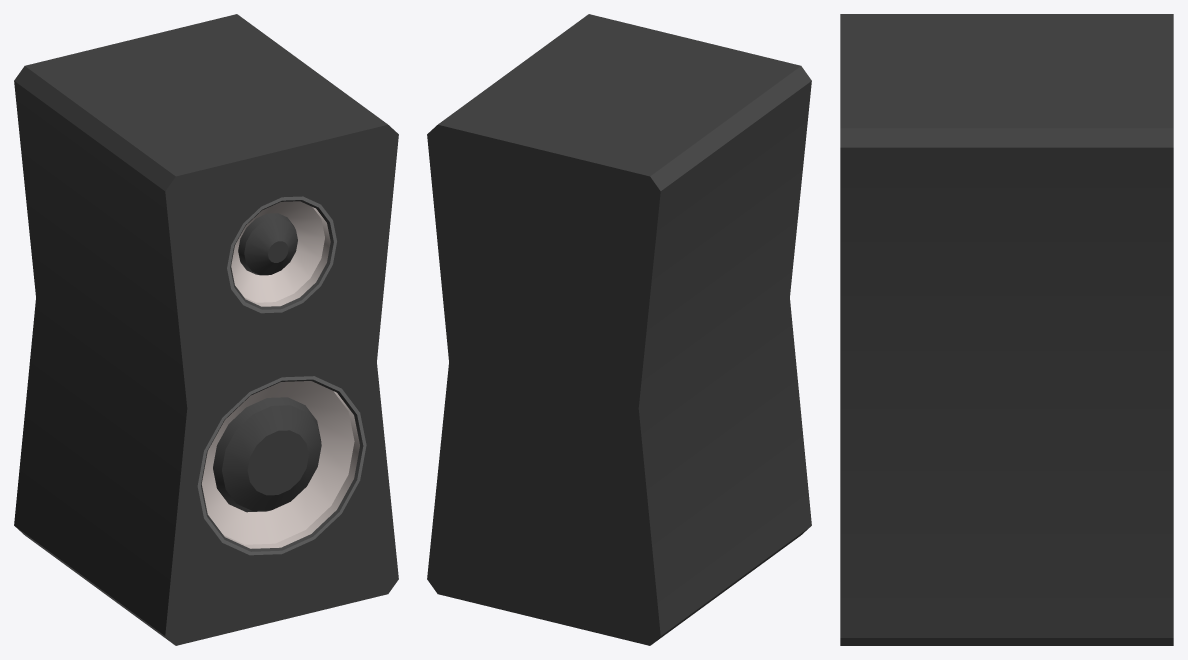
Rendered from Speakers.fbx.
3 views of the same model, side by side, from view 1: azimuth 30°, elevation 25°; view 2: azimuth 150°, elevation 25°; view 3: azimuth 270°, elevation 25° (orthographic). The views are drawn at different scales.
Parts seen in each view (by area): view 1: Speakers; view 2: Speakers; view 3: Speakers.
Part boxes in pixels (<box>): Speakers: <box>14,14,398,645</box>; Speakers: <box>427,14,811,645</box>; Speakers: <box>840,14,1173,645</box>.
Bounding box in the file's own units: 152 × 292 × 171.
